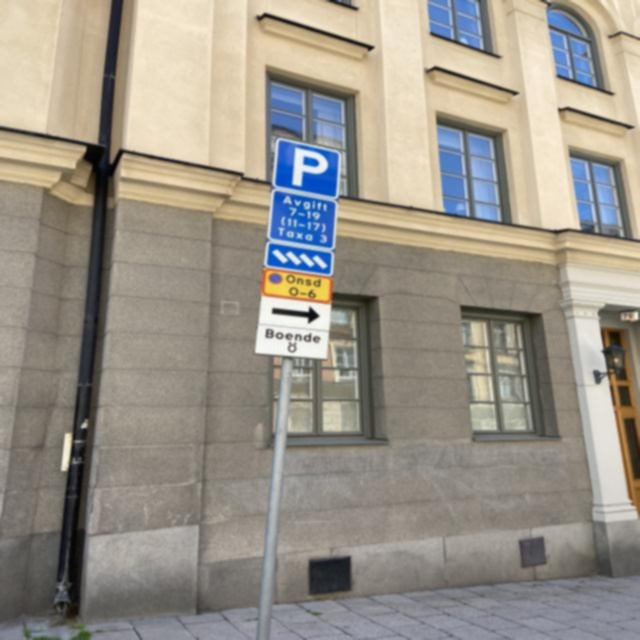P-skylt: (274, 132, 340, 200)
